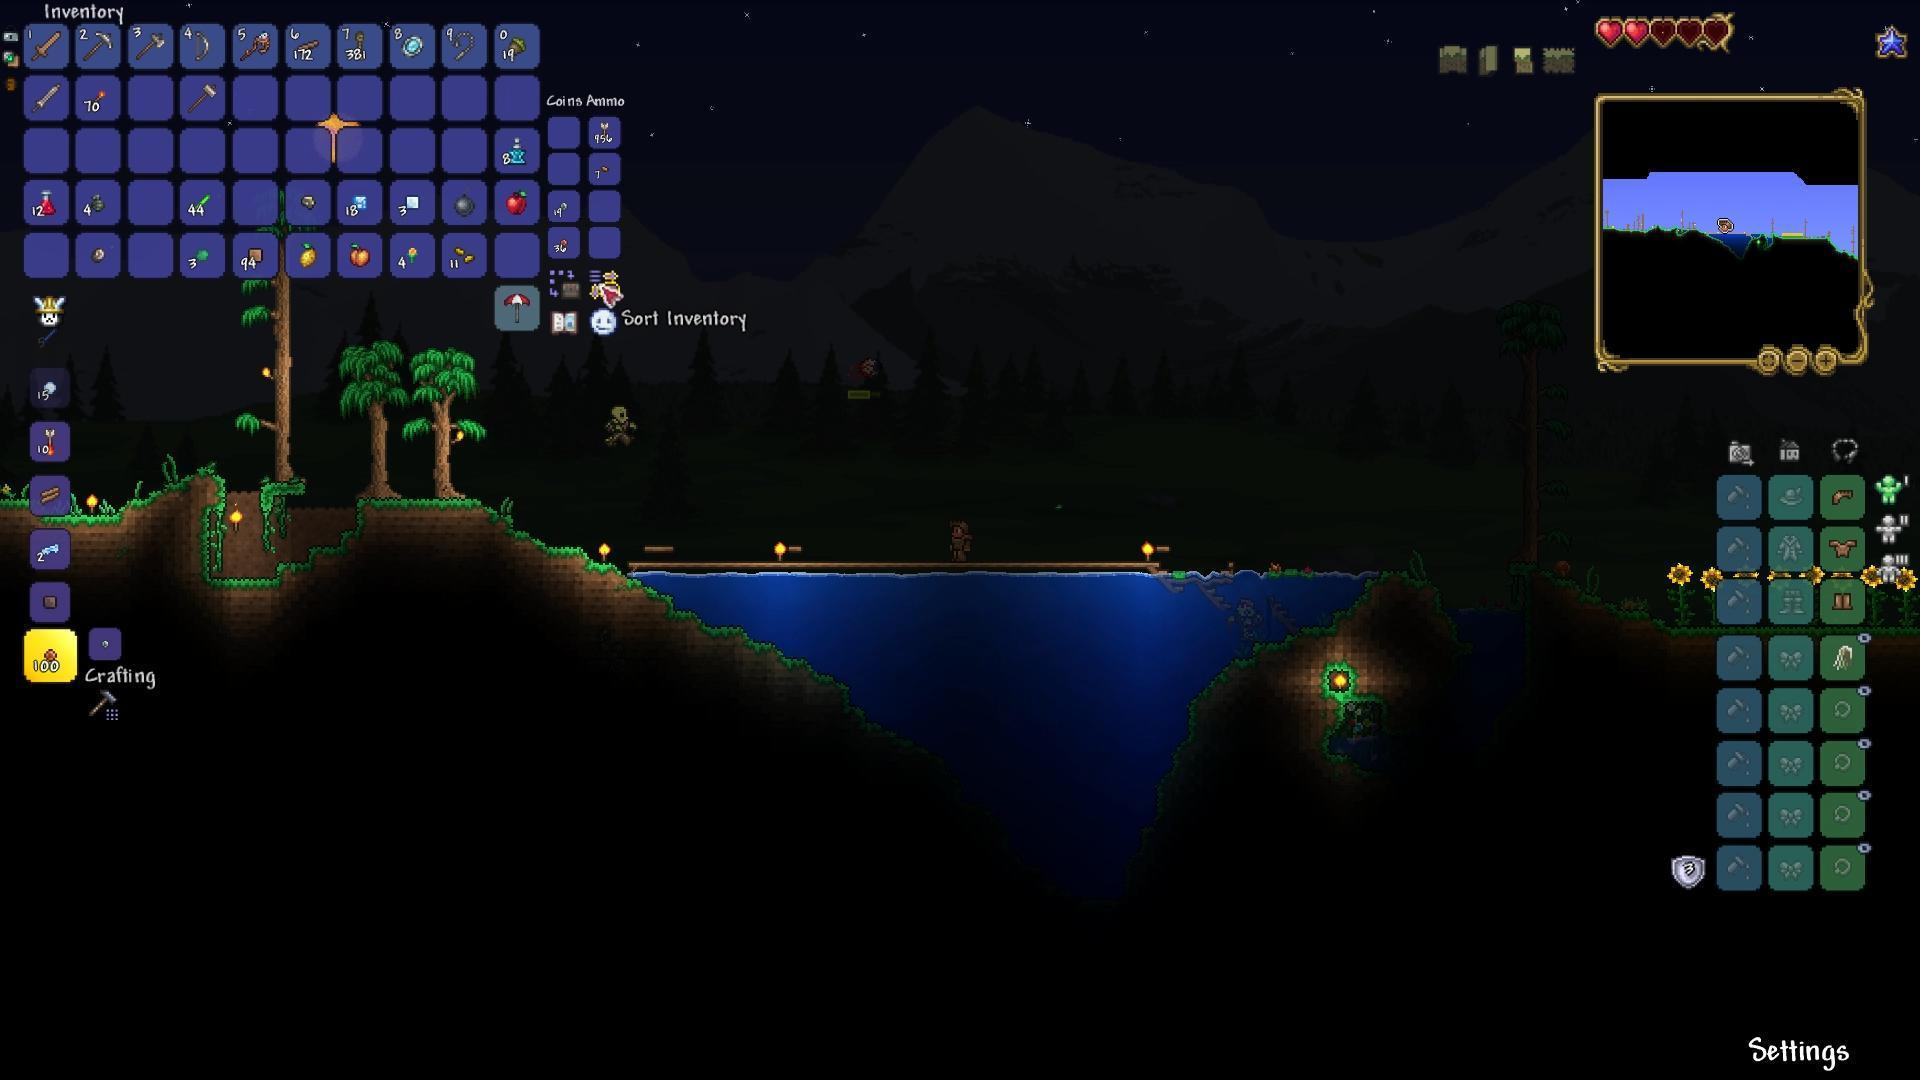grenade: (87, 190, 107, 214)
potion: (34, 187, 59, 216)
recallP: (508, 132, 527, 167)
